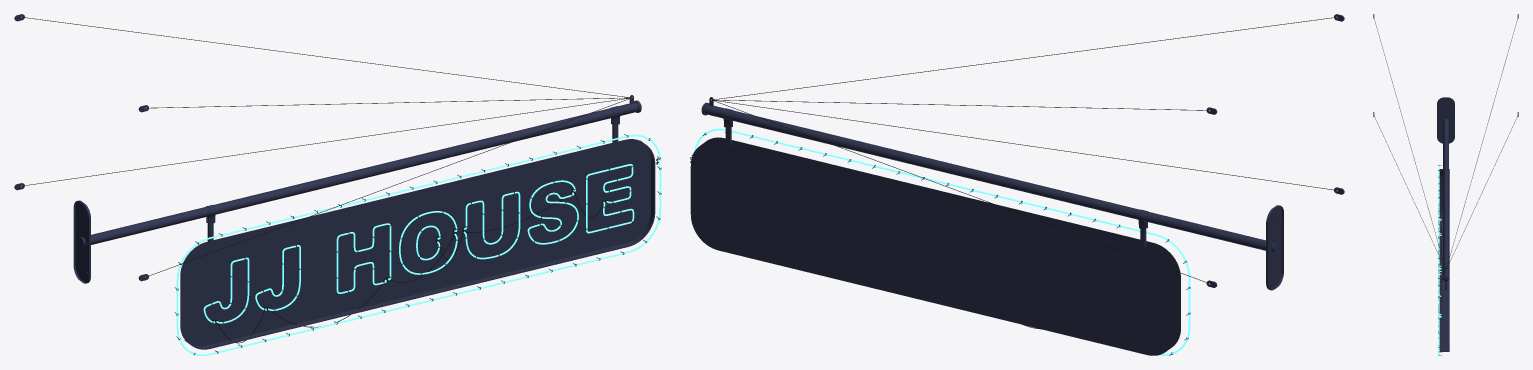
File: neon.glb
The picture shows the model from 3 angles, left to right: view 1: azimuth 30°, elevation 25°; view 2: azimuth 150°, elevation 25°; view 3: azimuth 270°, elevation 25°; orthographic projection. The views are drawn at different scales.
Visible parts, largest first — view 1: JJ_Neon; view 2: JJ_Neon; view 3: JJ_Neon.
Part boxes in pixels (bbox=[...]): JJ_Neon: bbox=[14, 14, 661, 355]; JJ_Neon: bbox=[690, 14, 1344, 355]; JJ_Neon: bbox=[1373, 14, 1518, 355].
Bounding box in the file's own units: 5.38 × 2.85 × 2.01.
